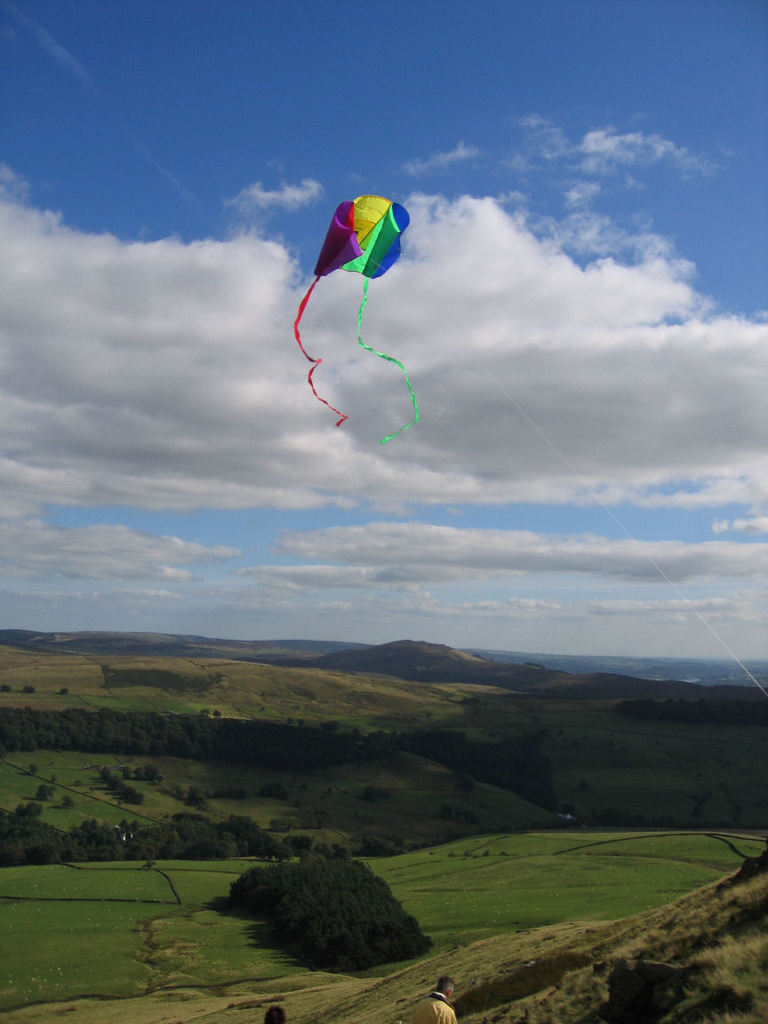kite: (278, 172, 489, 456)
